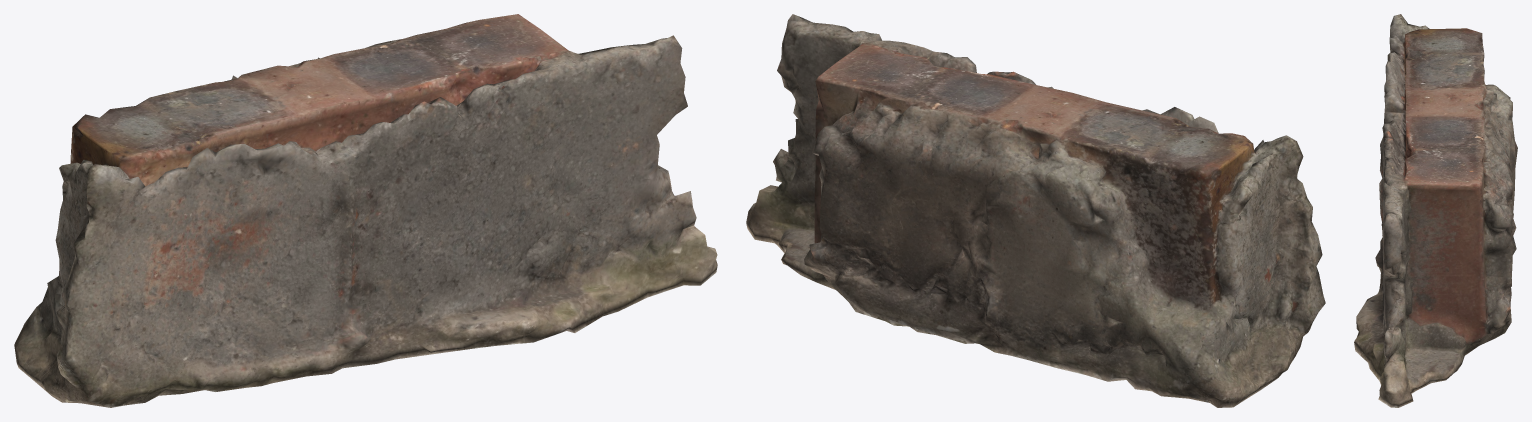
The model's file is PX_Brick_Ruins_20_LOD4.fbx.
3 views of the same model, side by side, from view 1: azimuth 30°, elevation 25°; view 2: azimuth 150°, elevation 25°; view 3: azimuth 270°, elevation 25° (orthographic). The views are drawn at different scales.
Parts seen in each view (by area): view 1: PX_Brick_Ruins_20_LOD4; view 2: PX_Brick_Ruins_20_LOD4; view 3: PX_Brick_Ruins_20_LOD4.
Boxes of the visible parts, x1=… form: PX_Brick_Ruins_20_LOD4: x1=14, y1=14, x2=717, y2=407; PX_Brick_Ruins_20_LOD4: x1=746, y1=14, x2=1325, y2=407; PX_Brick_Ruins_20_LOD4: x1=1354, y1=14, x2=1517, y2=407.
Bounding box in the file's own units: 38.73 × 14.56 × 11.83.
